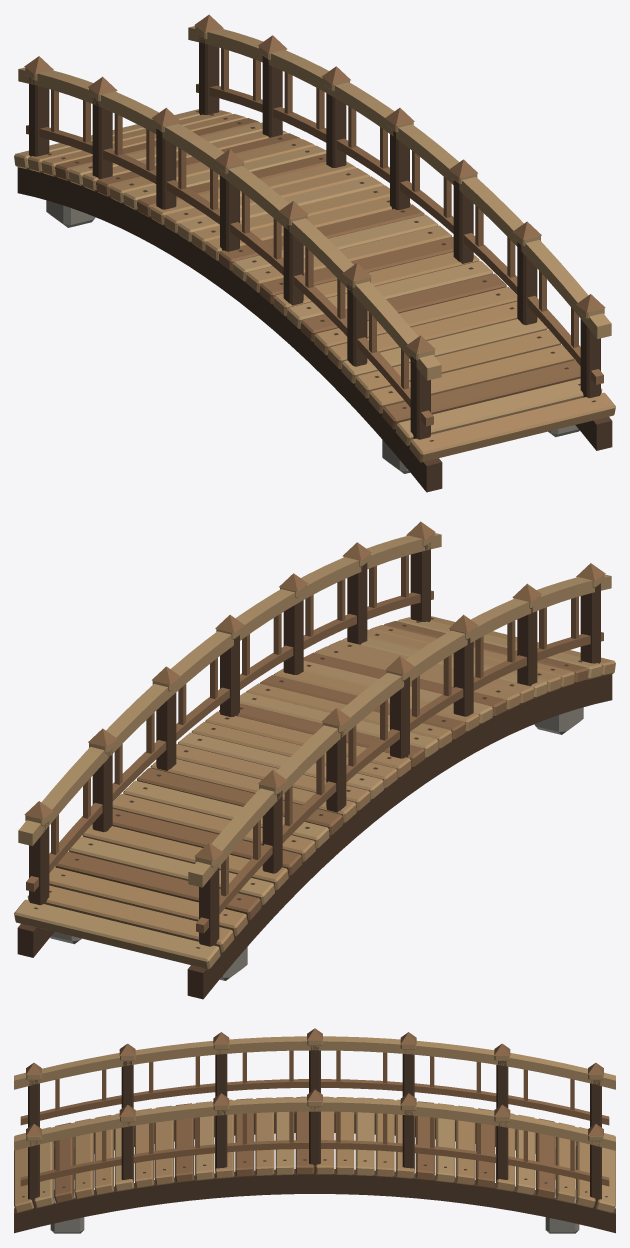
File: bridge.glb
The picture shows the model from 3 angles, top to bottom: view 1: azimuth 30°, elevation 25°; view 2: azimuth 150°, elevation 25°; view 3: azimuth 270°, elevation 25°; orthographic projection. The views are drawn at different scales.
Parts seen in each view (by area): view 1: surface; view 2: surface; view 3: surface.
Part boxes in pixels (x1,y1,x2,y2): surface: [14, 14, 615, 492]; surface: [14, 521, 615, 999]; surface: [14, 1028, 615, 1233].
Bounding box in the file's own units: 2.48 × 2.37 × 9.
